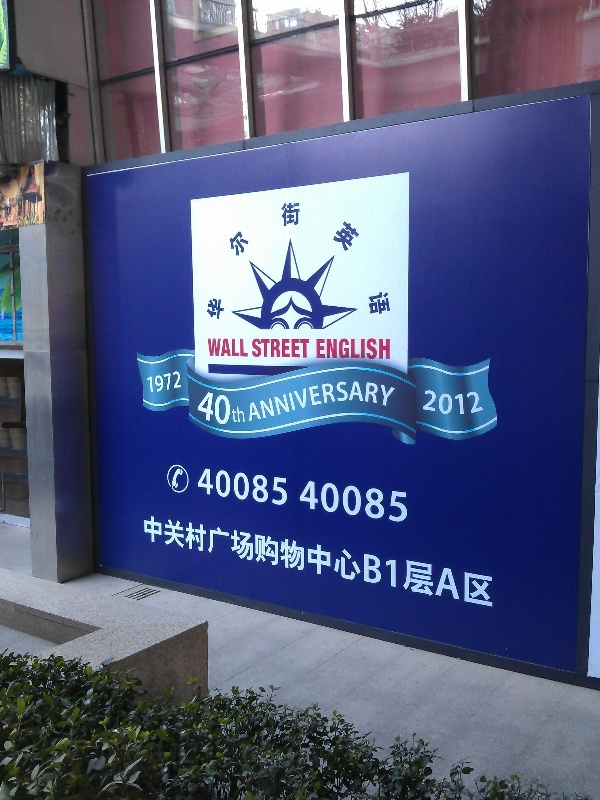text: (209, 191, 224, 321), (225, 191, 240, 321), (241, 191, 256, 321), (257, 191, 272, 321), (273, 191, 288, 321), (289, 191, 304, 321), (305, 191, 320, 321), (321, 191, 336, 321), (337, 191, 352, 321), (353, 191, 368, 321), (369, 191, 384, 321), (145, 513, 160, 609), (161, 513, 176, 609), (177, 513, 192, 609), (193, 513, 208, 609), (209, 513, 224, 609), (225, 513, 240, 609), (241, 513, 256, 609), (257, 513, 272, 609), (273, 513, 288, 609), (289, 513, 304, 609), (305, 513, 320, 609), (321, 513, 336, 609), (337, 513, 352, 609), (353, 513, 368, 609), (369, 513, 384, 609), (385, 513, 400, 609), (401, 513, 416, 609), (417, 513, 432, 609), (433, 513, 448, 609), (449, 513, 464, 609), (465, 513, 480, 609), (481, 513, 494, 609), (385, 191, 392, 321), (257, 378, 272, 424), (273, 378, 288, 424), (289, 378, 304, 424), (305, 378, 320, 424), (321, 378, 336, 424), (337, 378, 352, 424), (353, 378, 368, 424), (369, 378, 384, 424), (305, 479, 320, 524), (321, 479, 336, 524), (337, 479, 352, 524), (353, 479, 368, 524), (369, 479, 384, 524), (385, 479, 400, 524), (273, 466, 289, 506), (209, 466, 224, 506), (225, 466, 240, 506), (241, 466, 256, 506), (257, 466, 272, 506), (209, 390, 224, 427), (385, 378, 397, 424), (204, 191, 208, 321), (246, 378, 256, 424), (401, 479, 411, 524), (433, 389, 448, 416), (449, 389, 464, 416), (465, 389, 480, 416), (198, 466, 208, 506), (161, 370, 176, 395), (225, 390, 235, 427), (146, 370, 160, 395), (321, 338, 336, 361), (337, 338, 352, 361), (353, 338, 368, 361), (369, 338, 384, 361), (257, 339, 272, 359), (273, 339, 288, 359), (289, 339, 304, 359), (209, 338, 224, 357), (225, 338, 240, 357), (422, 389, 432, 416), (201, 390, 208, 427), (177, 370, 184, 395), (231, 406, 240, 424), (385, 338, 392, 361), (241, 338, 249, 357), (301, 479, 304, 524), (305, 339, 311, 359), (481, 389, 485, 416), (316, 338, 320, 361), (241, 406, 246, 424), (252, 339, 256, 359)
